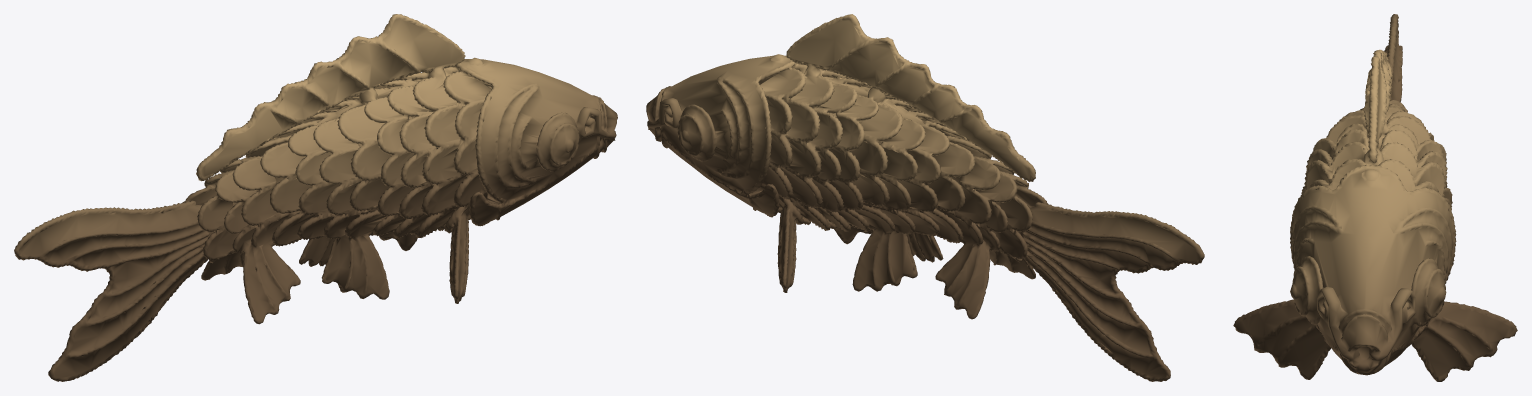
Rendered from ornamental-oro.glb.
3 views of the same model, side by side, from view 1: azimuth 30°, elevation 25°; view 2: azimuth 150°, elevation 25°; view 3: azimuth 270°, elevation 25° (orthographic). The views are drawn at different scales.
Visible parts, largest first — view 1: Ornamental koi / oro; view 2: Ornamental koi / oro; view 3: Ornamental koi / oro.
Part boxes in pixels (box(x1,y1,x2,y2)): Ornamental koi / oro: box(14, 14, 617, 381); Ornamental koi / oro: box(646, 14, 1204, 381); Ornamental koi / oro: box(1233, 14, 1517, 381).
Bounding box in the file's own units: 2.85 × 1.36 × 1.05.
